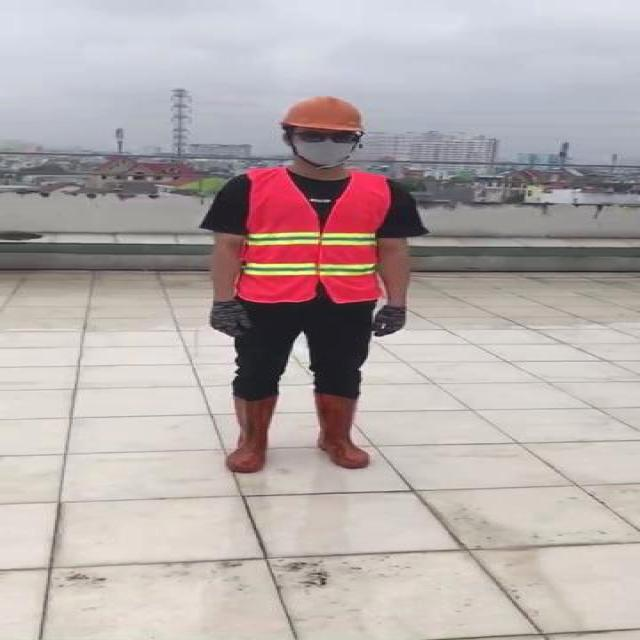boots: (225, 394, 282, 474), (316, 397, 372, 466)
face_mask: (288, 127, 359, 169)
glasses: (288, 127, 364, 147)
hand_glove: (206, 298, 251, 338), (372, 306, 411, 338)
head_helmet: (275, 95, 374, 136)
person: (197, 96, 427, 478)
vest: (233, 172, 389, 301)
